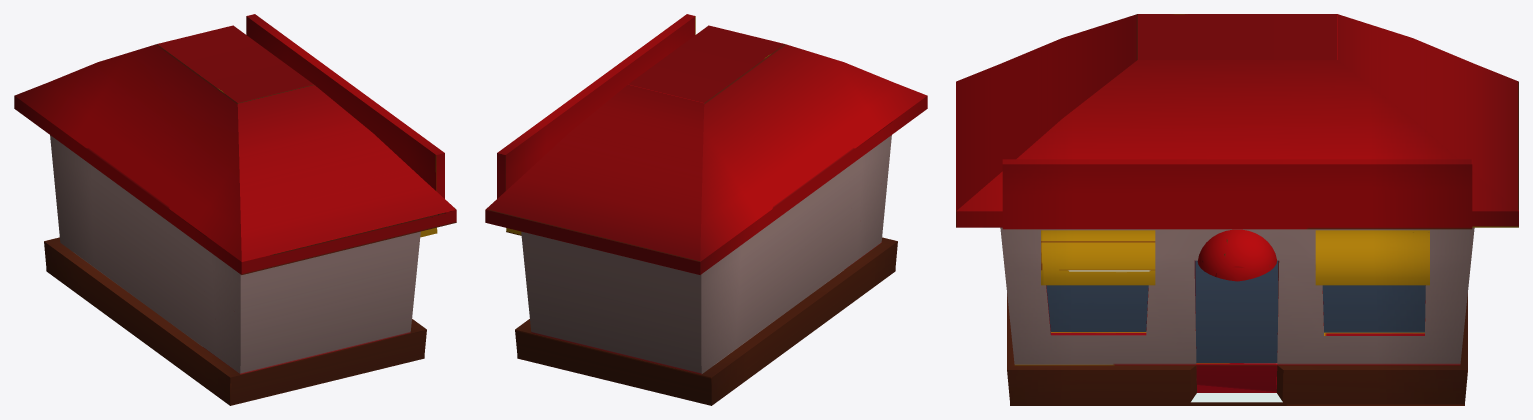
The model's file is MallRed.fbx.
3 renders of one model, left to right at view 1: azimuth 30°, elevation 25°; view 2: azimuth 150°, elevation 25°; view 3: azimuth 270°, elevation 25°, orthographic. The views are drawn at different scales.
Parts seen in each view (by area): view 1: Loja; view 2: Loja; view 3: Loja.
Part boxes in pixels (<box>): Loja: <box>14,14,456,405</box>; Loja: <box>485,14,927,405</box>; Loja: <box>956,14,1518,405</box>.
Size of the model in its own units: 822 by 856 by 1407.
